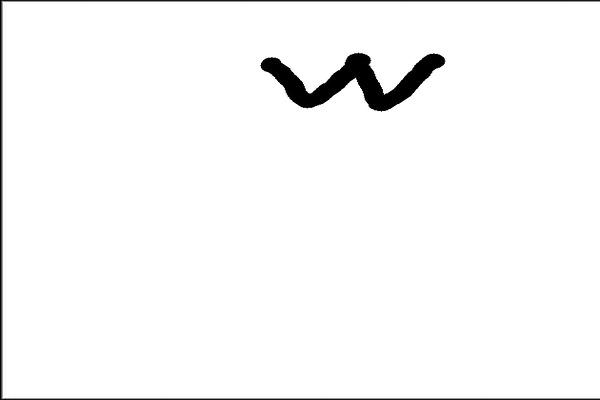w: (243, 32, 469, 132)
